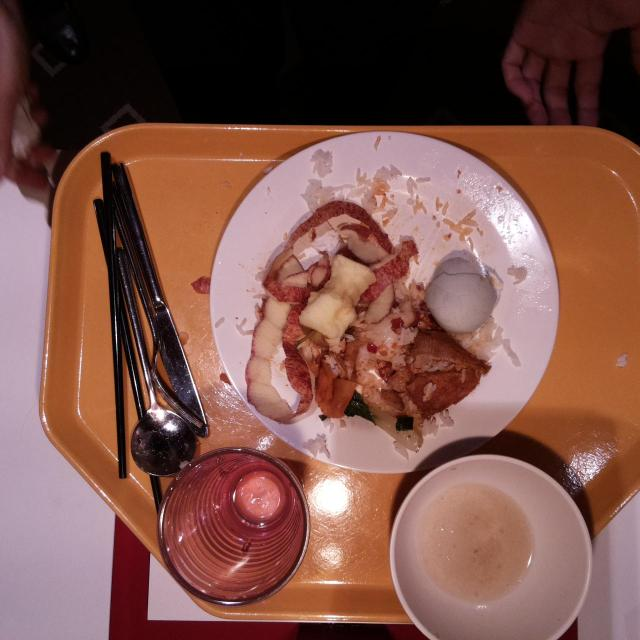Apple-core: (295, 252, 377, 345)
Apple-peel: (261, 204, 413, 398)
Egg-shell: (426, 254, 498, 336)
Meat: (406, 326, 489, 418)
Vegetable: (343, 390, 386, 434)
